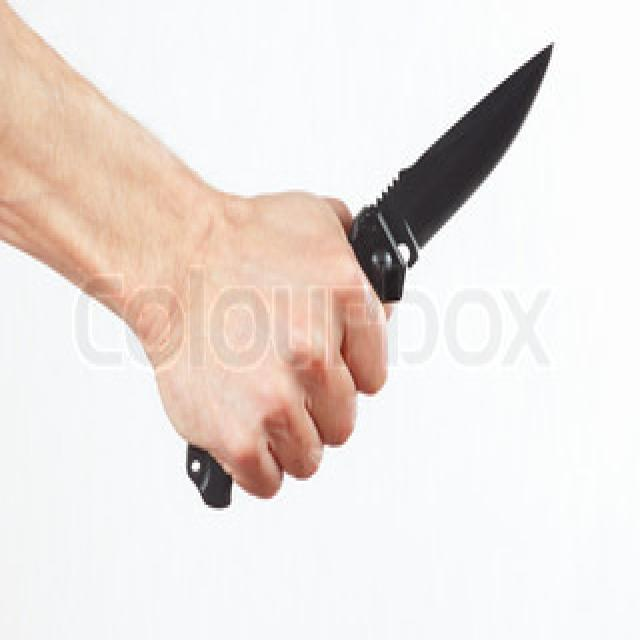knife: (348, 30, 563, 307)
